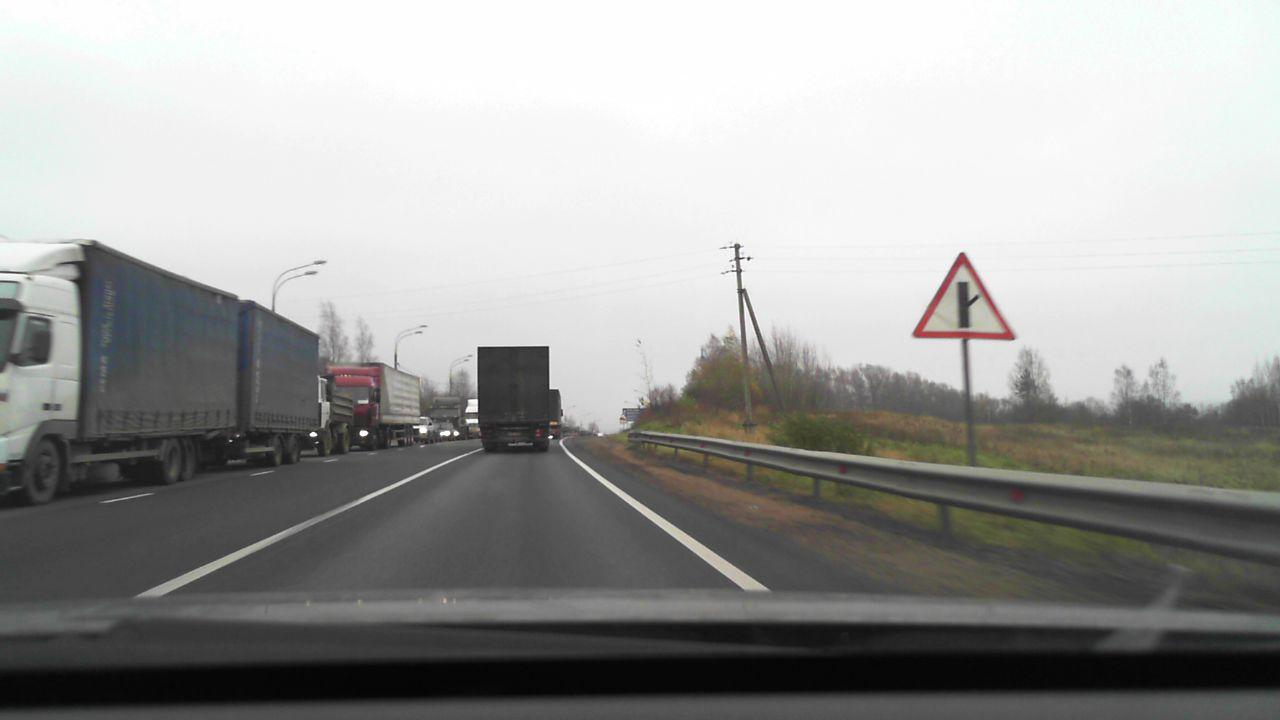2_3_4: (913, 252, 1015, 340)
